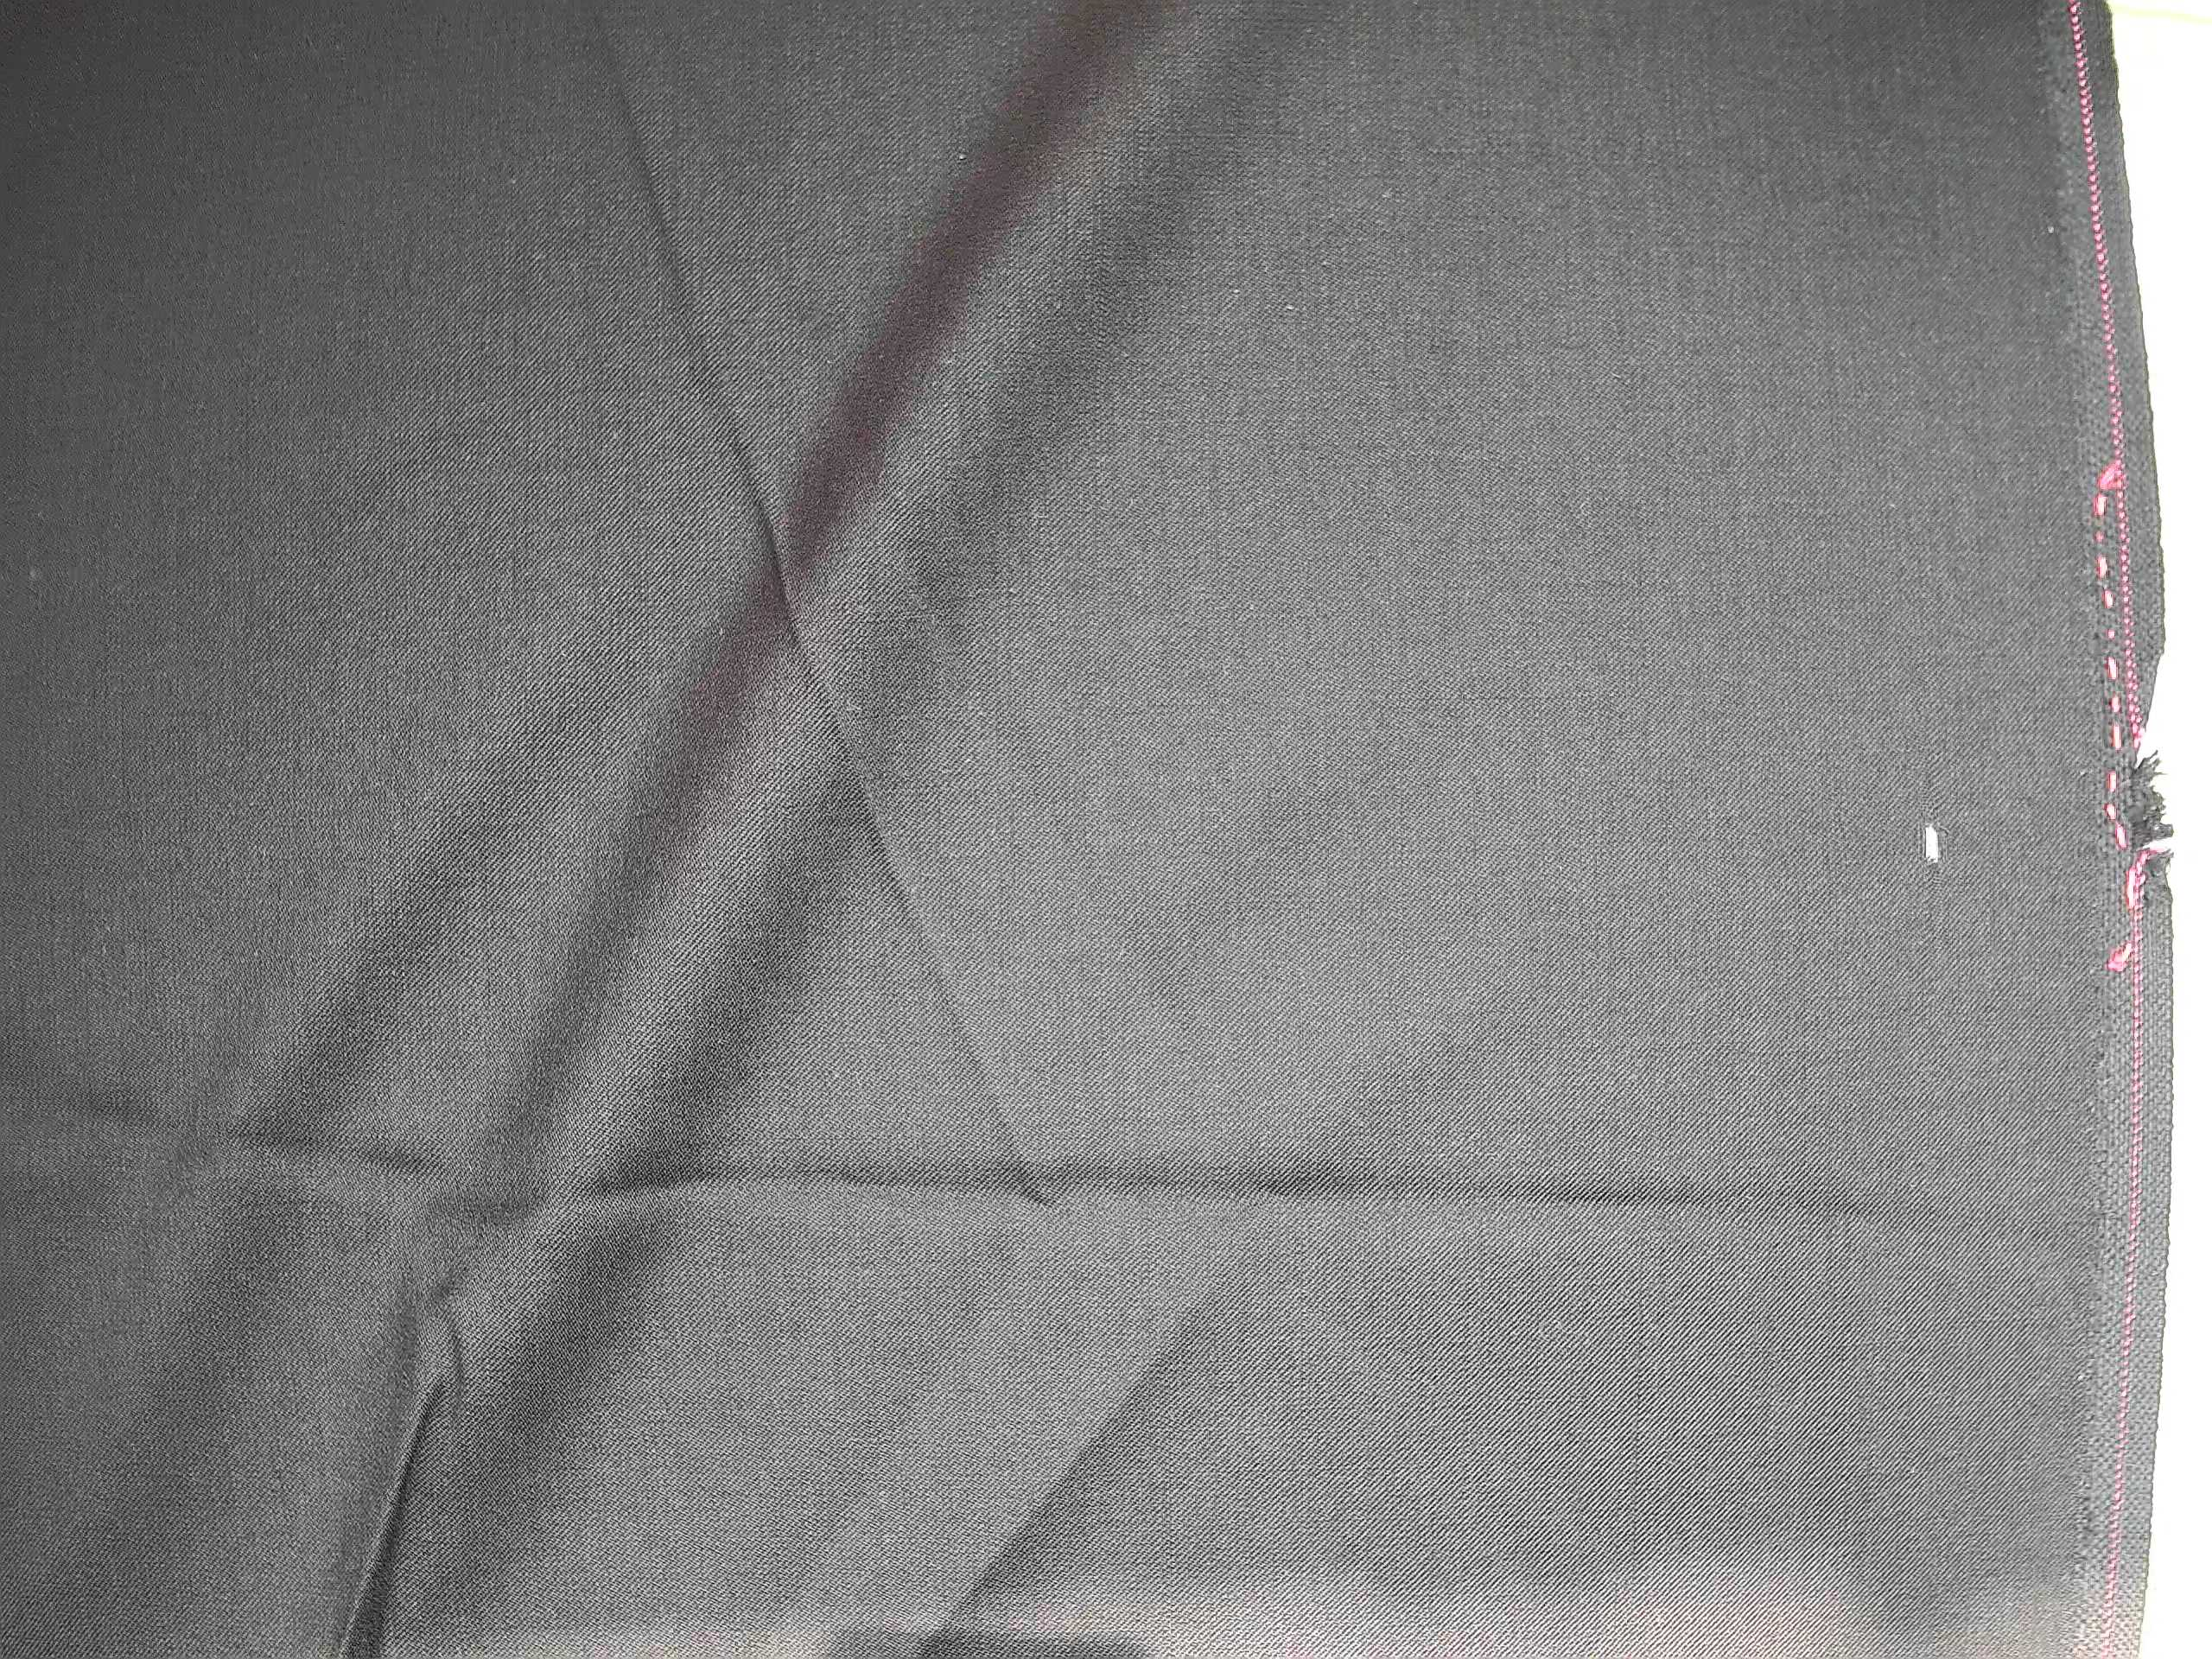brushed-hole: (1902, 795, 1966, 897)
